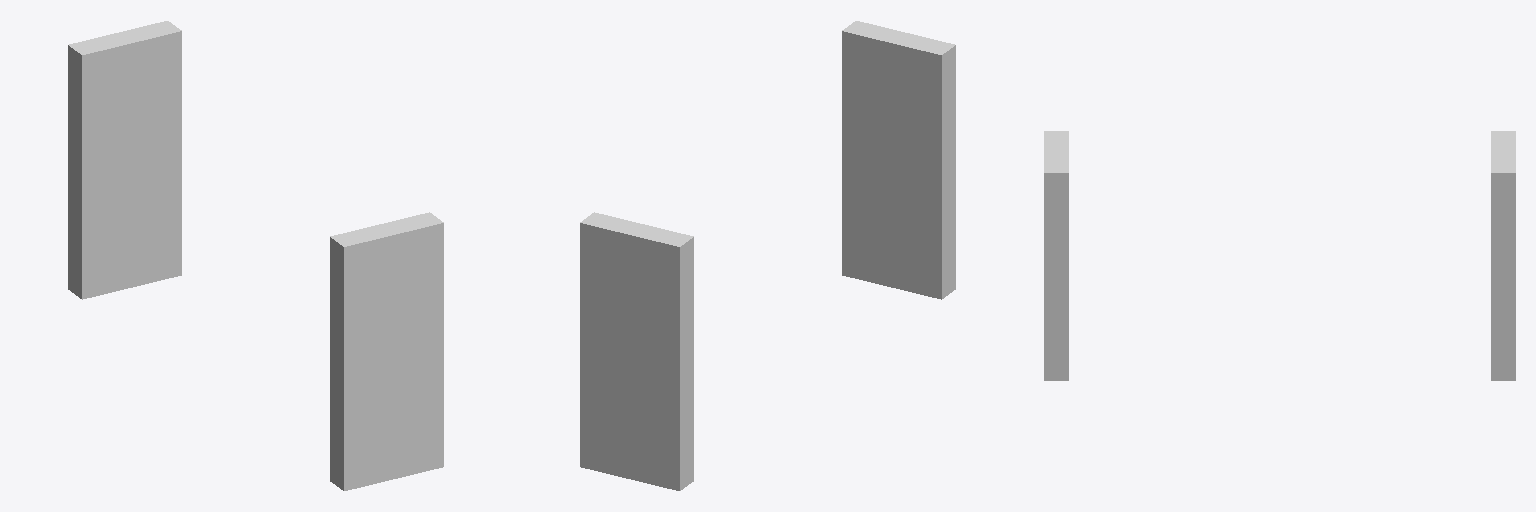
The robot description file, URDF, robot "robotiq_arg2f_140_model":
<?xml version="1.0" ?>
<!-- source: https://github.com/ros-industrial/robotiq/tree/kinetic-devel/robotiq_2f_140_gripper_visualization -->
<!-- =================================================================================== -->
<!-- |    This document was autogenerated by xacro from [local-path]/research/grasp/catkin_ws/src/robotiq/robotiq_2f_140_gripper_visualization/urdf/robotiq_arg2f_140_model.xacro | -->
<!-- |    EDITING THIS FILE BY HAND IS NOT RECOMMENDED                                 | -->
<!-- =================================================================================== -->
<robot name="robotiq_arg2f_140_model" xmlns:xacro="http://ros.org/wiki/xacro">
  <link name="robotiq_arg2f_base_link">
    <inertial>
      <origin rpy="0 0 0" xyz="8.625E-08 -4.6583E-06 0.03145"/>
      <mass value="0.22652"/>
      <inertia ixx="0.00020005" ixy="-4.2442E-10" ixz="-2.9069E-10" iyy="0.00017832" iyz="-3.4402E-08" izz="0.00013478"/>
    </inertial>
    <visual>
      <origin rpy="0 0 0" xyz="0 0 0"/>
      <geometry>
        <mesh filename="./meshes/visual/robotiq_arg2f_base_link.stl"/>
      </geometry>
      <material name="">
        <color rgba="0.1 0.1 0.1 1"/>
      </material>
    </visual>
    <collision>
      <origin rpy="0 0 0" xyz="0 0 0"/>
      <geometry>
        <mesh filename="./meshes/collision/robotiq_arg2f_base_link.stl"/>
      </geometry>
    </collision>
  </link>
  <link name="left_outer_knuckle">
    <inertial>
      <origin rpy="0 0 0" xyz="-0.000200000000003065 0.0199435877845359 0.0292245259211331"/>
      <mass value="0.00853198276973456"/>
      <inertia ixx="2.89328108496468E-06" ixy="-1.57935047237397E-19" ixz="-1.93980378593255E-19" iyy="1.86719750325683E-06" iyz="-1.21858577871576E-06" izz="1.21905238907251E-06"/>
    </inertial>
    <visual>
      <origin rpy="0 0 0" xyz="0 0 0"/>
      <geometry>
        <mesh filename="./meshes/visual/robotiq_arg2f_140_outer_knuckle.stl"/>
      </geometry>
      <material name="">
        <color rgba="0.792156862745098 0.819607843137255 0.933333333333333 1"/>
      </material>
    </visual>
    <collision>
      <origin rpy="0 0 0" xyz="0 0 0"/>
      <geometry>
        <mesh filename="./meshes/collision/robotiq_arg2f_140_outer_knuckle.stl"/>
      </geometry>
    </collision>
  </link>
  <link name="left_outer_finger">
    <inertial>
      <origin rpy="0 0 0" xyz="0.00030115855001899 0.0373907951953854 -0.0208027427000385"/>
      <mass value="0.022614240507152"/>
      <inertia ixx="1.52518312458174E-05" ixy="9.76583423954399E-10" ixz="-5.43838577022588E-10" iyy="6.17694243867776E-06" iyz="6.78636130740228E-06" izz="1.16494917907219E-05"/>
    </inertial>
    <visual>
      <origin rpy="0 0 0" xyz="0 0 0"/>
      <geometry>
        <mesh filename="./meshes/visual/robotiq_arg2f_140_outer_finger.stl"/>
      </geometry>
      <material name="">
        <color rgba="0.1 0.1 0.1 1"/>
      </material>
    </visual>
    <collision>
      <origin rpy="0 0 0" xyz="0 0 0"/>
      <geometry>
        <mesh filename="./meshes/collision/robotiq_arg2f_140_outer_finger.stl"/>
      </geometry>
    </collision>
  </link>
  <link name="left_inner_finger">
    <inertial>
      <origin rpy="0 0 0" xyz="0.000299999999999317 0.0160078233491243 -0.0136945669206257"/>
      <mass value="0.0104003125914103"/>
      <inertia ixx="2.71909453810972E-06" ixy="1.35402465472579E-21" ixz="-7.1817349065269E-22" iyy="7.69100314106116E-07" iyz="6.74715432769696E-07" izz="2.30315190420171E-06"/>
    </inertial>
    <visual>
      <origin rpy="0 0 0" xyz="0 0 0"/>
      <geometry>
        <mesh filename="./meshes/visual/robotiq_arg2f_140_inner_finger.stl"/>
      </geometry>
      <material name="">
        <color rgba="0.1 0.1 0.1 1"/>
      </material>
    </visual>
  </link>
  <link name="left_inner_finger_pad">
    <inertial>
      <origin rpy="0 0 0" xyz="0.000299999999999317 0.0160078233491243 -0.0136945669206257"/>
      <mass value="0.001"/>
      <inertia ixx="2.71909453810972E-06" ixy="1.35402465472579E-21" ixz="-7.1817349065269E-22" iyy="7.69100314106116E-07" iyz="6.74715432769696E-07" izz="2.30315190420171E-06"/>
    </inertial>
    <visual>
      <origin rpy="0 0 0" xyz="0 0 0"/>
      <geometry>
        <box size="0.03 0.07 0.0075"/>
      </geometry>
      <material name="">
        <color rgba="0.9 0.9 0.9 1"/>
      </material>
    </visual>
    <collision>
      <origin rpy="0 0 0" xyz="0 0 0"/>
      <geometry>
        <box size="0.03 0.07 0.0075"/>
      </geometry>
      <material name="">
        <color rgba="0.9 0.0 0.0 1"/>
      </material>
    </collision>
  </link>
  <link name="left_inner_knuckle">
    <inertial>
      <origin rpy="0 0 0" xyz="0.000123011831763771 0.0507850843201817 0.00103968640075166"/>
      <mass value="0.0271177346495152"/>
      <inertia ixx="2.61910379223783E-05" ixy="-2.43616858946494E-07" ixz="-6.37789906117123E-09" iyy="2.8270243746167E-06" iyz="-5.37200748039765E-07" izz="2.83695868220296E-05"/>
    </inertial>
    <visual>
      <origin rpy="0 0 0" xyz="0 0 0"/>
      <geometry>
        <mesh filename="./meshes/visual/robotiq_arg2f_140_inner_knuckle.stl"/>
      </geometry>
      <material name="">
        <color rgba="0.1 0.1 0.1 1"/>
      </material>
    </visual>
    <collision>
      <origin rpy="0 0 0" xyz="0 0 0"/>
      <geometry>
        <mesh filename="./meshes/collision/robotiq_arg2f_140_inner_knuckle.stl"/>
      </geometry>
    </collision>
  </link>
  <link name="right_outer_knuckle">
    <inertial>
      <origin rpy="0 0 0" xyz="-0.000200000000003065 0.0199435877845359 0.0292245259211331"/>
      <mass value="0.00853198276973456"/>
      <inertia ixx="2.89328108496468E-06" ixy="-1.57935047237397E-19" ixz="-1.93980378593255E-19" iyy="1.86719750325683E-06" iyz="-1.21858577871576E-06" izz="1.21905238907251E-06"/>
    </inertial>
    <visual>
      <origin rpy="0 0 0" xyz="0 0 0"/>
      <geometry>
        <mesh filename="./meshes/visual/robotiq_arg2f_140_outer_knuckle.stl"/>
      </geometry>
      <material name="">
        <color rgba="0.792156862745098 0.819607843137255 0.933333333333333 1"/>
      </material>
    </visual>
    <collision>
      <origin rpy="0 0 0" xyz="0 0 0"/>
      <geometry>
        <mesh filename="./meshes/collision/robotiq_arg2f_140_outer_knuckle.stl"/>
      </geometry>
    </collision>
  </link>
  <link name="right_outer_finger">
    <inertial>
      <origin rpy="0 0 0" xyz="0.00030115855001899 0.0373907951953854 -0.0208027427000385"/>
      <mass value="0.022614240507152"/>
      <inertia ixx="1.52518312458174E-05" ixy="9.76583423954399E-10" ixz="-5.43838577022588E-10" iyy="6.17694243867776E-06" iyz="6.78636130740228E-06" izz="1.16494917907219E-05"/>
    </inertial>
    <visual>
      <origin rpy="0 0 0" xyz="0 0 0"/>
      <geometry>
        <mesh filename="./meshes/visual/robotiq_arg2f_140_outer_finger.stl"/>
      </geometry>
      <material name="">
        <color rgba="0.1 0.1 0.1 1"/>
      </material>
    </visual>
    <collision>
      <origin rpy="0 0 0" xyz="0 0 0"/>
      <geometry>
        <mesh filename="./meshes/collision/robotiq_arg2f_140_outer_finger.stl"/>
      </geometry>
    </collision>
  </link>
  <link name="right_inner_finger">
    <inertial>
      <origin rpy="0 0 0" xyz="0.000299999999999317 0.0160078233491243 -0.0136945669206257"/>
      <mass value="0.0104003125914103"/>
      <inertia ixx="2.71909453810972E-06" ixy="1.35402465472579E-21" ixz="-7.1817349065269E-22" iyy="7.69100314106116E-07" iyz="6.74715432769696E-07" izz="2.30315190420171E-06"/>
    </inertial>
    <visual>
      <origin rpy="0 0 0" xyz="0 0 0"/>
      <geometry>
        <mesh filename="./meshes/visual/robotiq_arg2f_140_inner_finger.stl"/>
      </geometry>
      <material name="">
        <color rgba="0.1 0.1 0.1 1"/>
      </material>
    </visual>
  </link>
  <link name="right_inner_finger_pad">
    <inertial>
      <origin rpy="0 0 0" xyz="0.000299999999999317 0.0160078233491243 -0.0136945669206257"/>
      <mass value="0.001"/>
      <inertia ixx="2.71909453810972E-06" ixy="1.35402465472579E-21" ixz="-7.1817349065269E-22" iyy="7.69100314106116E-07" iyz="6.74715432769696E-07" izz="2.30315190420171E-06"/>
    </inertial>
    <visual>
      <origin rpy="0 0 0" xyz="0 0 0"/>
      <geometry>
        <box size="0.03 0.07 0.0075"/>
      </geometry>
      <material name="">
        <color rgba="0.9 0.9 0.9 1"/>
      </material>
    </visual>
    <collision>
      <origin rpy="0 0 0" xyz="0 0 0"/>
      <geometry>
        <box size="0.03 0.07 0.0075"/>
      </geometry>
      <material name="">
        <color rgba="0.9 0.0 0.0 1"/>
      </material>
    </collision>
  </link>
  <link name="right_inner_knuckle">
    <inertial>
      <origin rpy="0 0 0" xyz="0.000123011831763771 0.0507850843201817 0.00103968640075166"/>
      <mass value="0.0271177346495152"/>
      <inertia ixx="2.61910379223783E-05" ixy="-2.43616858946494E-07" ixz="-6.37789906117123E-09" iyy="2.8270243746167E-06" iyz="-5.37200748039765E-07" izz="2.83695868220296E-05"/>
    </inertial>
    <visual>
      <origin rpy="0 0 0" xyz="0 0 0"/>
      <geometry>
        <mesh filename="./meshes/visual/robotiq_arg2f_140_inner_knuckle.stl"/>
      </geometry>
      <material name="">
        <color rgba="0.1 0.1 0.1 1"/>
      </material>
    </visual>
    <collision>
      <origin rpy="0 0 0" xyz="0 0 0"/>
      <geometry>
        <mesh filename="./meshes/collision/robotiq_arg2f_140_inner_knuckle.stl"/>
      </geometry>
    </collision>
  </link>
  <joint name="finger_joint" type="revolute">
    <origin rpy="2.29579632679 0 0" xyz="0 -0.030601 0.054905"/>
    <parent link="robotiq_arg2f_base_link"/>
    <child link="left_outer_knuckle"/>
    <axis xyz="-1 0 0"/>
    <limit effort="1000" lower="0" upper="0.7" velocity="2.0"/>
  </joint>
  <joint name="left_outer_finger_joint" type="fixed">
    <origin rpy="0 0 0" xyz="0 0.01821998610742 0.0260018192872234"/>
    <parent link="left_outer_knuckle"/>
    <child link="left_outer_finger"/>
    <axis xyz="1 0 0"/>
  </joint>
  <joint name="left_inner_knuckle_joint" type="revolute">
    <origin rpy="2.29579632679 0 0.0" xyz="0 -0.0127 0.06142"/>
    <parent link="robotiq_arg2f_base_link"/>
    <child link="left_inner_knuckle"/>
    <axis xyz="1 0 0"/>
    <limit effort="1000" lower="-0.8757" upper="0.8757" velocity="2.0"/>
    <mimic joint="finger_joint" multiplier="-1" offset="0"/>
  </joint>
  <joint name="left_inner_finger_joint" type="revolute">
    <origin rpy="-0.725 0 0" xyz="0 0.0817554015893473 -0.0282203446692936"/>
    <parent link="left_outer_finger"/>
    <child link="left_inner_finger"/>
    <axis xyz="1 0 0"/>
    <limit effort="1000" lower="-0.8757" upper="0.8757" velocity="2.0"/>
    <mimic joint="finger_joint" multiplier="1" offset="0"/>
  </joint>
  <joint name="left_inner_finger_pad_joint" type="fixed">
    <origin rpy="0 0 0" xyz="0 0.0457554015893473 -0.0272203446692936"/>
    <parent link="left_inner_finger"/>
    <child link="left_inner_finger_pad"/>
    <axis xyz="0 0 1"/>
  </joint>
  <joint name="right_outer_knuckle_joint" type="revolute">
    <origin rpy="2.29579632679 0 3.14159265359" xyz="0 0.030601 0.054905"/>
    <parent link="robotiq_arg2f_base_link"/>
    <child link="right_outer_knuckle"/>
    <axis xyz="1 0 0"/>
    <limit effort="1000" lower="-0.725" upper="0.725" velocity="2.0"/>
    <mimic joint="finger_joint" multiplier="-1" offset="0"/>
  </joint>
  <joint name="right_outer_finger_joint" type="fixed">
    <origin rpy="0 0 0" xyz="0 0.01821998610742 0.0260018192872234"/>
    <parent link="right_outer_knuckle"/>
    <child link="right_outer_finger"/>
    <axis xyz="1 0 0"/>
  </joint>
  <joint name="right_inner_knuckle_joint" type="revolute">
    <origin rpy="2.29579632679 0 -3.14159265359" xyz="0 0.0127 0.06142"/>
    <parent link="robotiq_arg2f_base_link"/>
    <child link="right_inner_knuckle"/>
    <axis xyz="1 0 0"/>
    <limit effort="1000" lower="-0.8757" upper="0.8757" velocity="2.0"/>
    <mimic joint="finger_joint" multiplier="-1" offset="0"/>
  </joint>
  <joint name="right_inner_finger_joint" type="revolute">
    <origin rpy="-0.725 0 0" xyz="0 0.0817554015893473 -0.0282203446692936"/>
    <parent link="right_outer_finger"/>
    <child link="right_inner_finger"/>
    <axis xyz="1 0 0"/>
    <limit effort="1000" lower="-0.8757" upper="0.8757" velocity="2.0"/>
    <mimic joint="finger_joint" multiplier="1" offset="0"/>
  </joint>
  <joint name="right_inner_finger_pad_joint" type="fixed">
    <origin rpy="0 0 0" xyz="0 0.0457554015893473 -0.0272203446692936"/>
    <parent link="right_inner_finger"/>
    <child link="right_inner_finger_pad"/>
    <axis xyz="0 0 1"/>
  </joint>
  <transmission name="finger_joint_trans">
    <type>transmission_interface/SimpleTransmission</type>
    <joint name="finger_joint">
      <hardwareInterface>PositionJointInterface</hardwareInterface>
    </joint>
    <actuator name="finger_joint_motor">
      <mechanicalReduction>1</mechanicalReduction>
    </actuator>
  </transmission>
</robot>

--- Facts derived from the render (not from the file) ---
The picture shows the robot from 3 angles, left to right: view 1: azimuth 30°, elevation 25°; view 2: azimuth 150°, elevation 25°; view 3: azimuth 270°, elevation 25°; orthographic projection.
Model robotiq_arg2f_140_model with 11 links and 10 joints (6 revolute, 4 fixed), rooted at robotiq_arg2f_base_link, posed all joints at 0.
Visible links, largest first — view 1: left_inner_finger_pad, right_inner_finger_pad; view 2: left_inner_finger_pad, right_inner_finger_pad; view 3: left_inner_finger_pad, right_inner_finger_pad.
Boxes of the visible links, x1=… form: left_inner_finger_pad: x1=330, y1=212, x2=443, y2=490; right_inner_finger_pad: x1=68, y1=21, x2=181, y2=299; left_inner_finger_pad: x1=842, y1=21, x2=955, y2=299; right_inner_finger_pad: x1=580, y1=212, x2=693, y2=490; left_inner_finger_pad: x1=1044, y1=131, x2=1068, y2=380; right_inner_finger_pad: x1=1491, y1=131, x2=1515, y2=380.
Bounding box of the posed robot: 0.03 × 0.1435 × 0.07 m (x, y, z).
0 mesh visuals loaded from 5 distinct referenced files (none loaded); not drawn: 9 (reference not matched to a file when rendering).